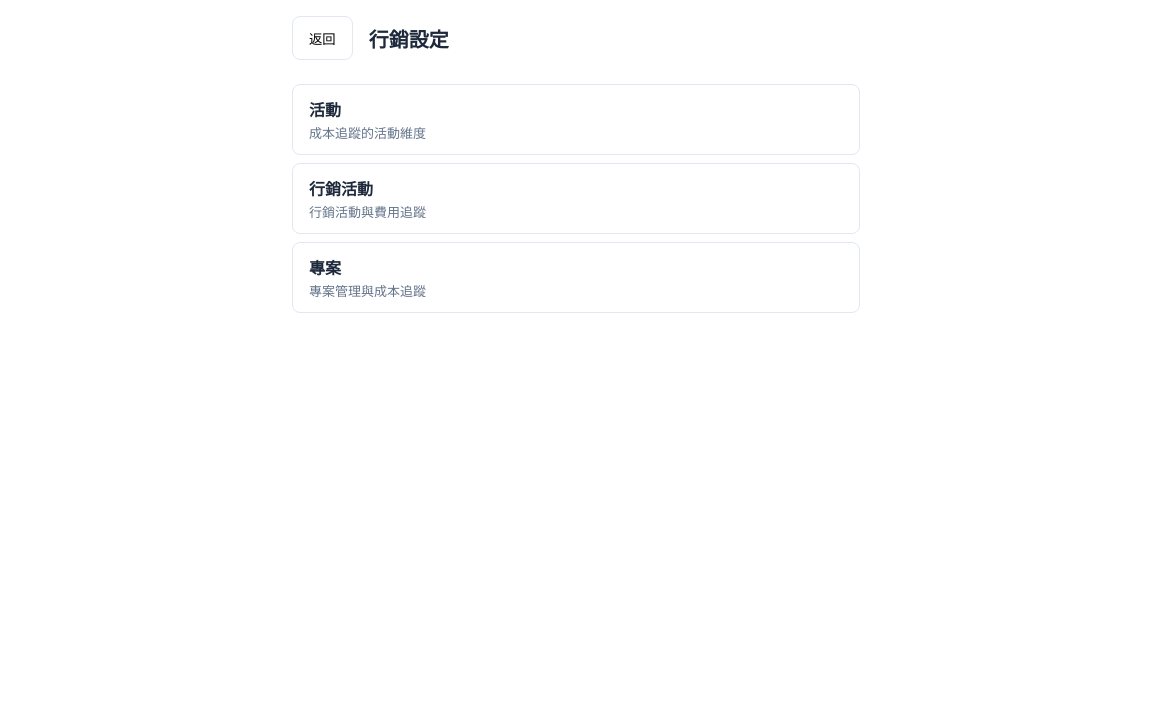
Test: DimensionDataView › Campaign table includes Costs in select
Click the element with class "table-card" showing "行銷活動 行銷活動與費用追蹤" at (576, 198), box [292,163,860,234]
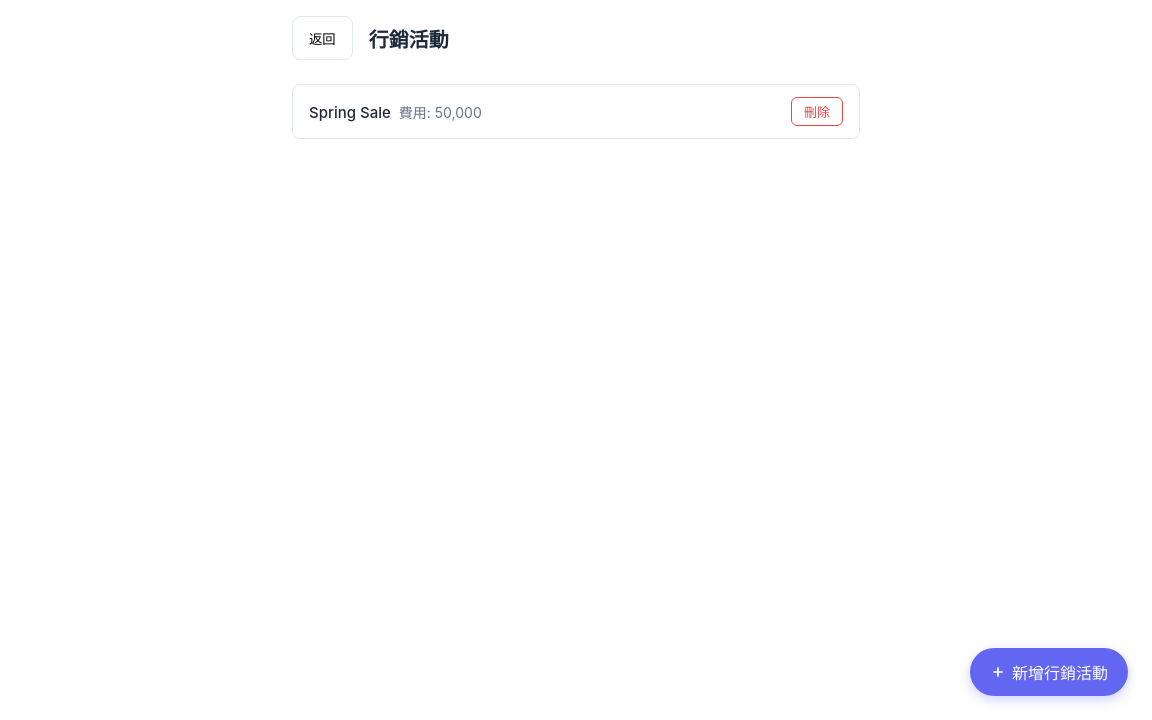
Expected: the text with class "data-extra" shows "50,000", [399,104,482,120]
